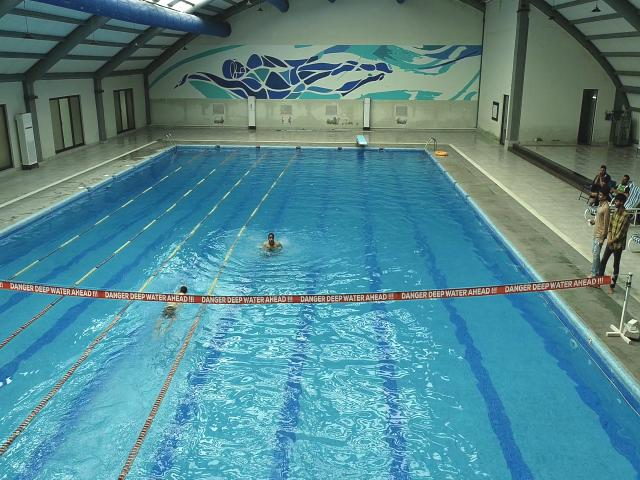out of water: (588, 194, 632, 296), (589, 164, 615, 200), (608, 174, 632, 198)
swimming: (156, 284, 188, 328), (262, 232, 282, 252)
